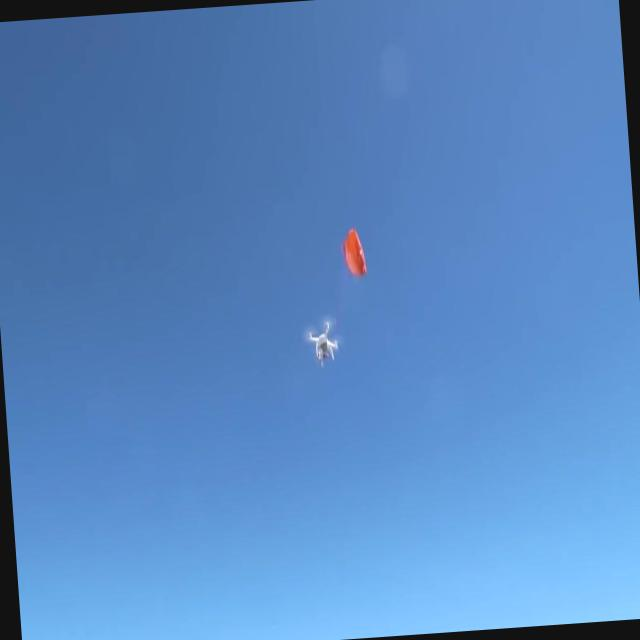drone: (305, 315, 342, 371)
